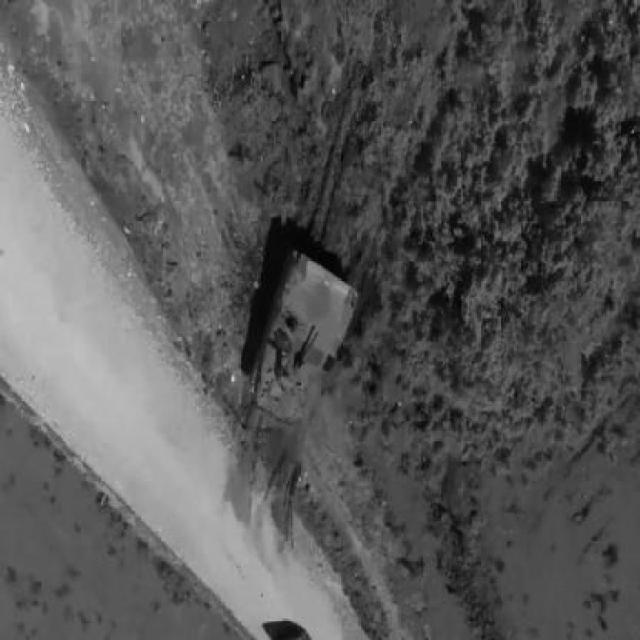Vehicle: (251, 249, 360, 427)
